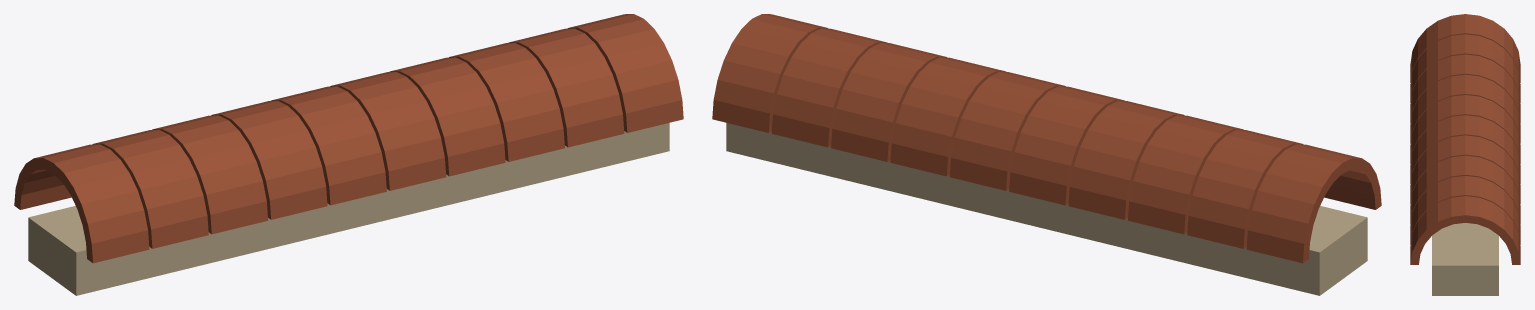
3 renders of one model, left to right at view 1: azimuth 30°, elevation 25°; view 2: azimuth 150°, elevation 25°; view 3: azimuth 270°, elevation 25°, orthographic. The views are drawn at different scales.
Parts seen in each view (by area): view 1: RIDGE_Base, RIDGE_Cap_0, RIDGE_Cap_6, RIDGE_Cap_5, RIDGE_Cap_3, RIDGE_Cap_1, RIDGE_Cap_8, RIDGE_Cap_7, RIDGE_Cap_4, RIDGE_Cap_2, RIDGE_Cap_9; view 2: RIDGE_Base, RIDGE_Cap_0, RIDGE_Cap_6, RIDGE_Cap_5, RIDGE_Cap_3, RIDGE_Cap_1, RIDGE_Cap_8, RIDGE_Cap_7, RIDGE_Cap_4, RIDGE_Cap_2, RIDGE_Cap_9; view 3: RIDGE_Base, RIDGE_Cap_9, RIDGE_Cap_7, RIDGE_Cap_0, RIDGE_Cap_2, RIDGE_Cap_1, RIDGE_Cap_3, RIDGE_Cap_4, RIDGE_Cap_5, RIDGE_Cap_6, RIDGE_Cap_8.
Boxes of the visible parts, left/top/right/bottom form: RIDGE_Base: left=28, top=123, right=669, bottom=295; RIDGE_Cap_0: left=14, top=144, right=149, bottom=263; RIDGE_Cap_6: left=389, top=57, right=505, bottom=176; RIDGE_Cap_5: left=330, top=72, right=446, bottom=190; RIDGE_Cap_3: left=211, top=101, right=327, bottom=219; RIDGE_Cap_1: left=93, top=130, right=208, bottom=248; RIDGE_Cap_8: left=508, top=28, right=624, bottom=147; RIDGE_Cap_7: left=449, top=43, right=564, bottom=161; RIDGE_Cap_4: left=271, top=86, right=386, bottom=205; RIDGE_Cap_2: left=152, top=115, right=268, bottom=234; RIDGE_Cap_9: left=567, top=14, right=683, bottom=132; RIDGE_Base: left=726, top=123, right=1367, bottom=295; RIDGE_Cap_0: left=1246, top=144, right=1381, bottom=263; RIDGE_Cap_6: left=890, top=57, right=1006, bottom=176; RIDGE_Cap_5: left=949, top=72, right=1065, bottom=190; RIDGE_Cap_3: left=1068, top=101, right=1184, bottom=219; RIDGE_Cap_1: left=1187, top=130, right=1302, bottom=248; RIDGE_Cap_8: left=771, top=28, right=887, bottom=147; RIDGE_Cap_7: left=831, top=43, right=946, bottom=161; RIDGE_Cap_4: left=1009, top=86, right=1124, bottom=205; RIDGE_Cap_2: left=1127, top=115, right=1243, bottom=234; RIDGE_Cap_9: left=712, top=14, right=828, bottom=132; RIDGE_Base: left=1432, top=223, right=1498, bottom=295; RIDGE_Cap_9: left=1410, top=196, right=1520, bottom=264; RIDGE_Cap_7: left=1410, top=155, right=1520, bottom=224; RIDGE_Cap_0: left=1410, top=14, right=1520, bottom=82; RIDGE_Cap_2: left=1410, top=54, right=1520, bottom=123; RIDGE_Cap_1: left=1410, top=34, right=1520, bottom=102; RIDGE_Cap_3: left=1410, top=74, right=1520, bottom=143; RIDGE_Cap_4: left=1410, top=95, right=1520, bottom=163; RIDGE_Cap_5: left=1410, top=115, right=1520, bottom=183; RIDGE_Cap_6: left=1410, top=135, right=1520, bottom=203; RIDGE_Cap_8: left=1410, top=176, right=1520, bottom=244.
Size of the model in its own units: 2 by 0.37 by 0.46.
